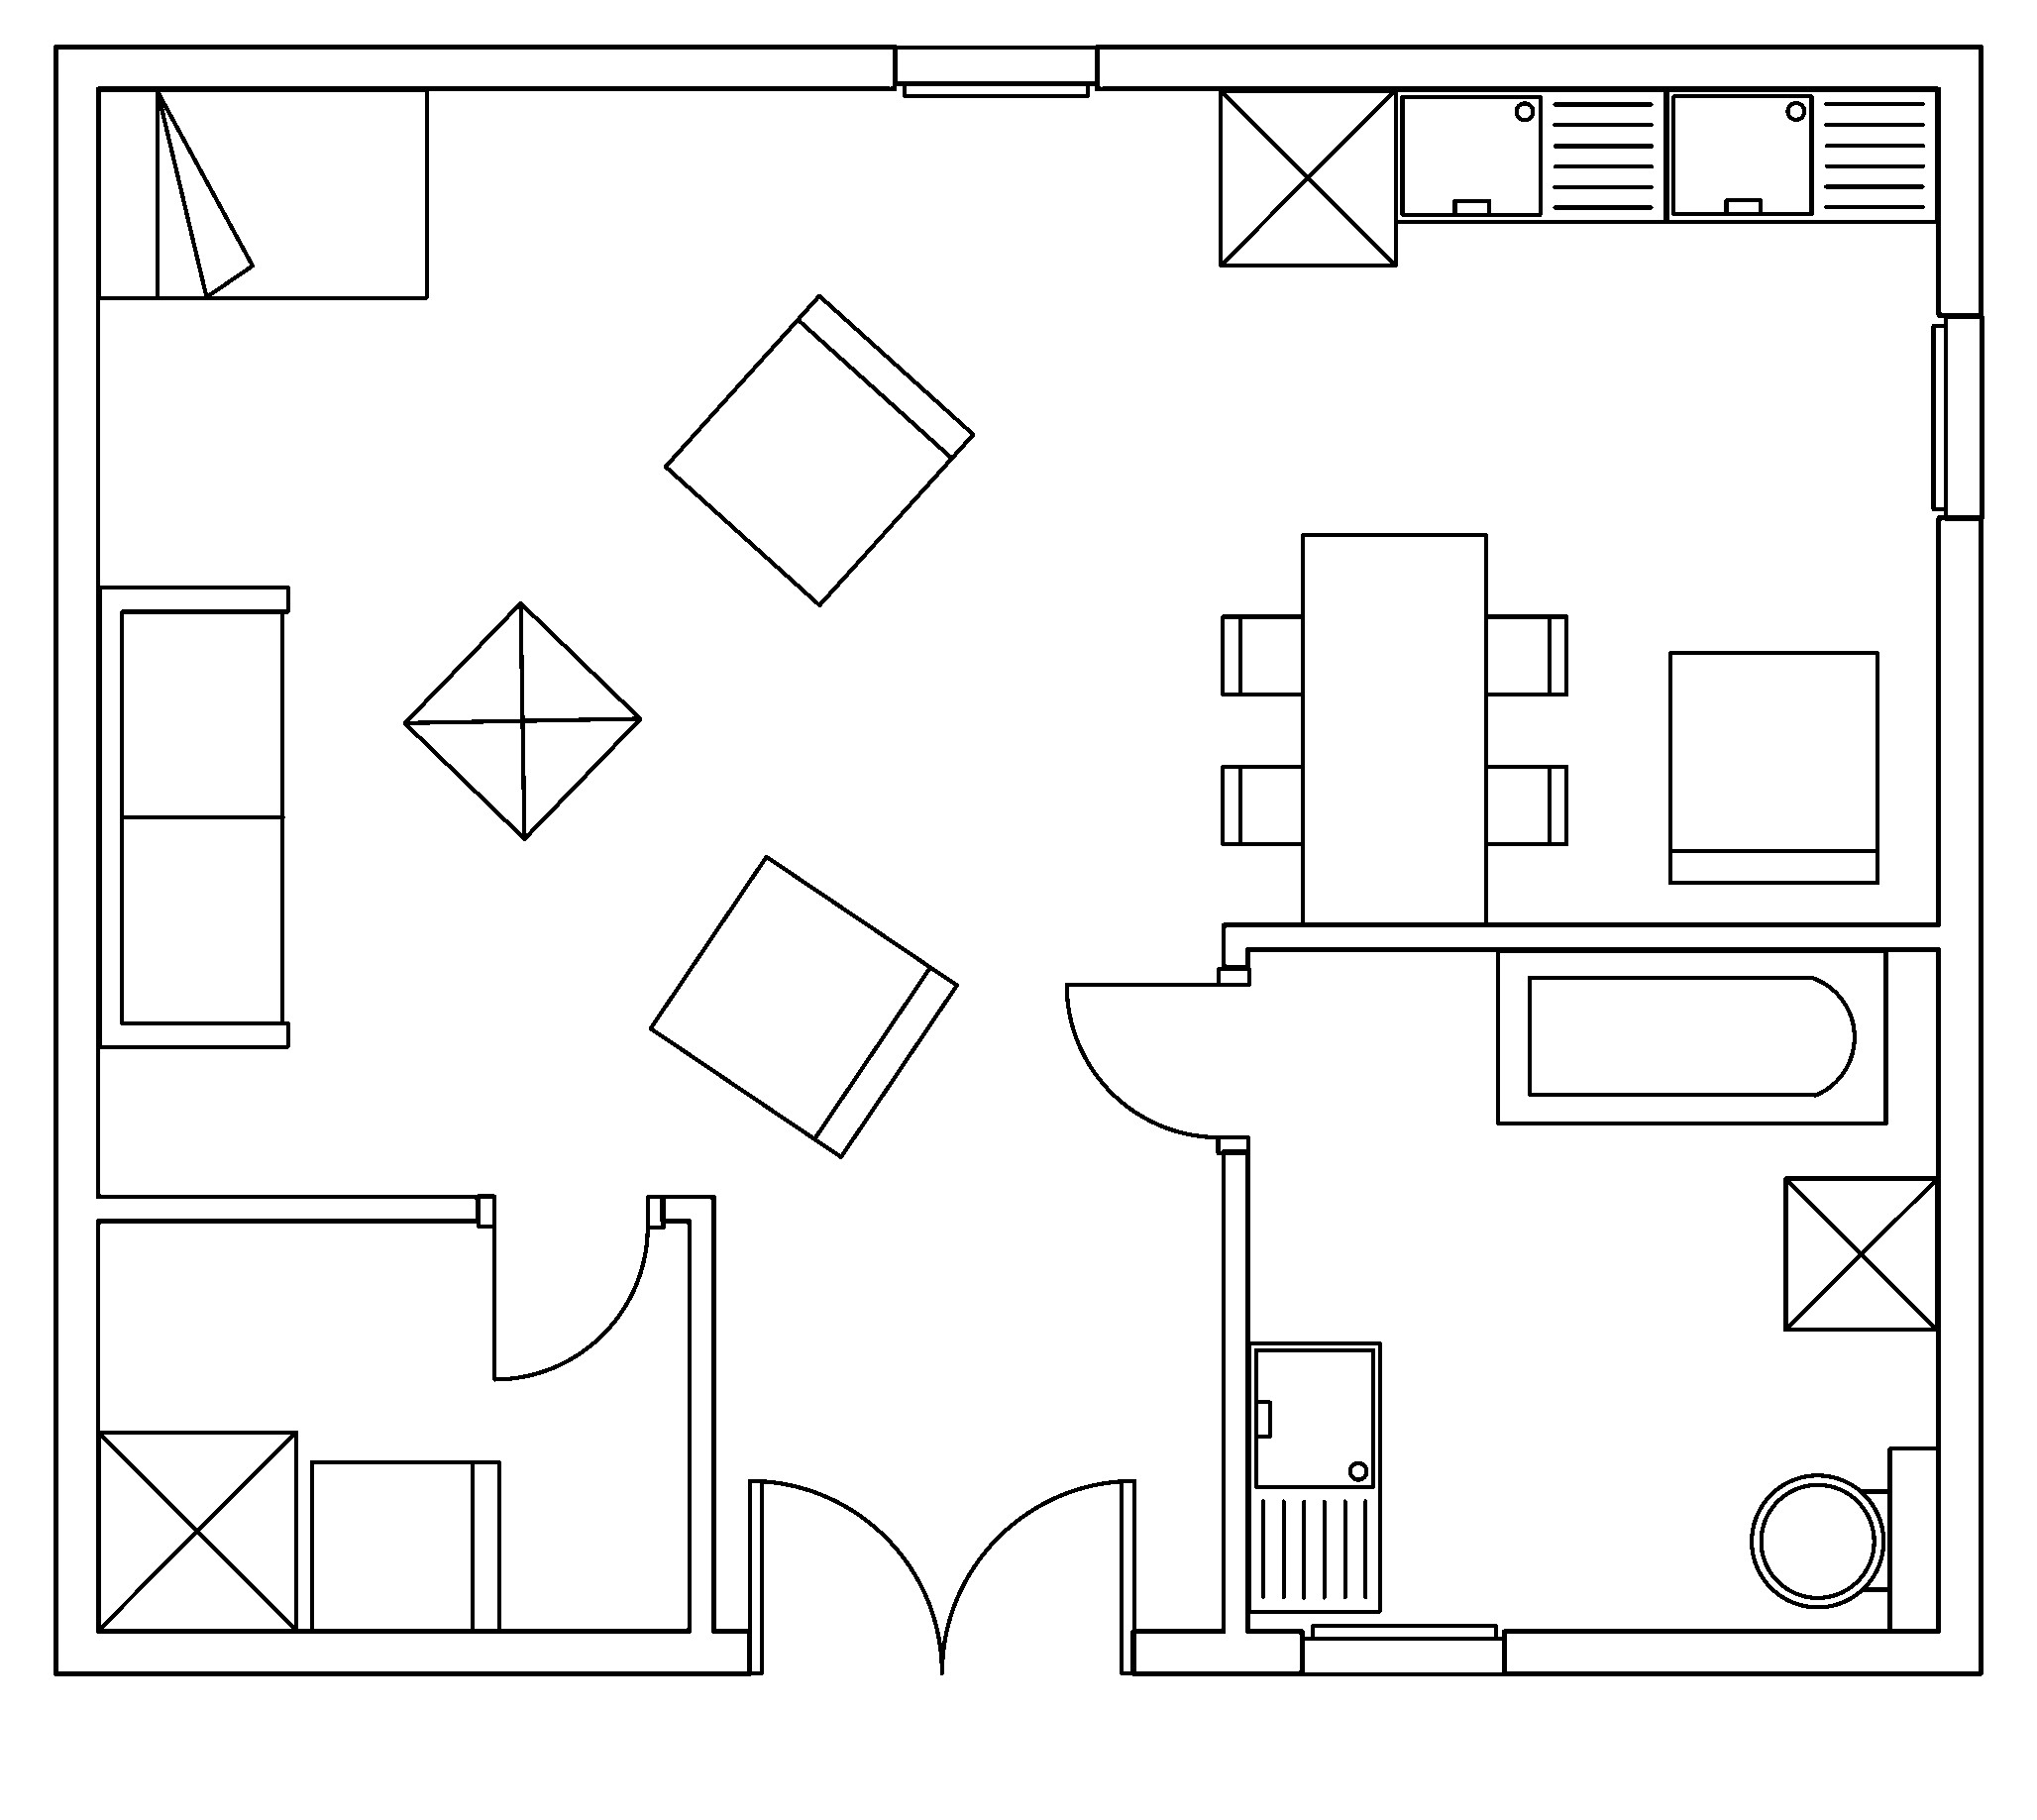bed: (95, 86, 428, 300)
coffee_table: (402, 599, 643, 841), (95, 1428, 299, 1632), (1217, 86, 1398, 267), (1781, 1174, 1940, 1333)
dining_table: (1219, 531, 1568, 926)
large_sink: (1749, 1444, 1940, 1632)
large_sofa: (95, 583, 290, 1049)
sink: (1663, 86, 1940, 223), (1245, 1339, 1382, 1614), (1393, 86, 1668, 223)
small_sofa: (662, 292, 976, 608), (646, 854, 959, 1159), (1666, 648, 1879, 885), (307, 1458, 500, 1632)
tub: (1494, 947, 1888, 1126)
